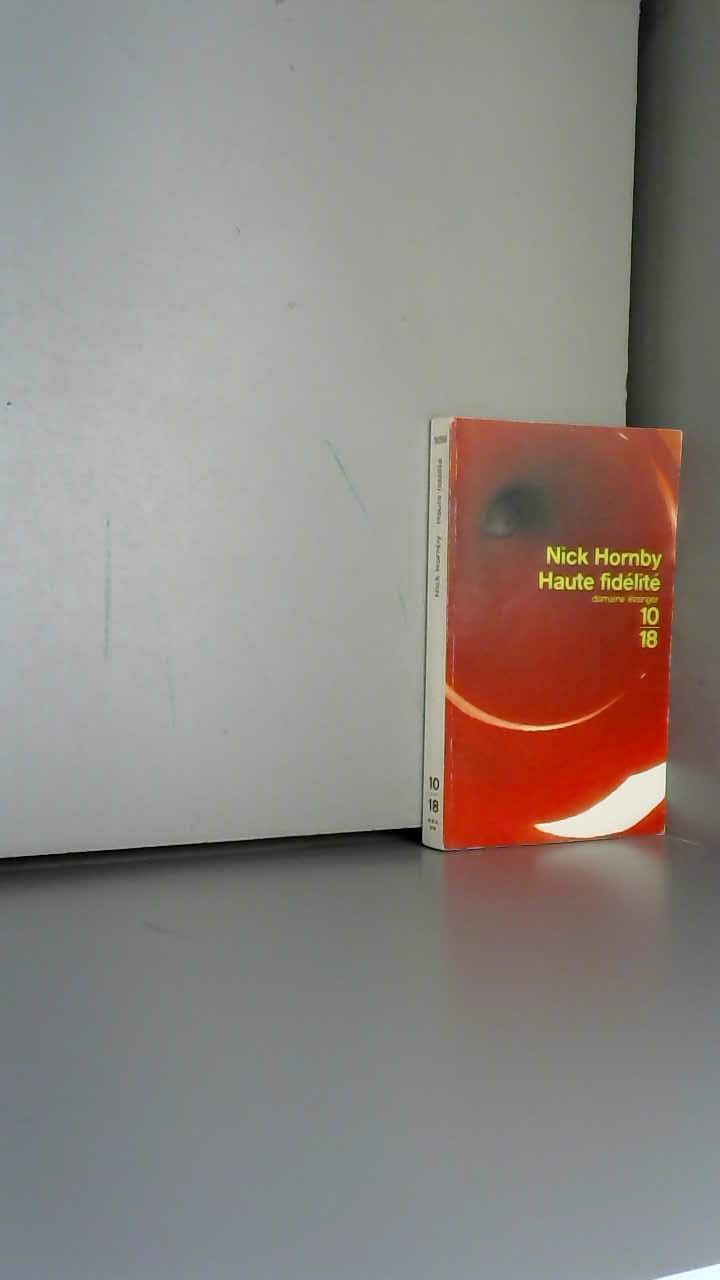book: (400, 420, 719, 911)
